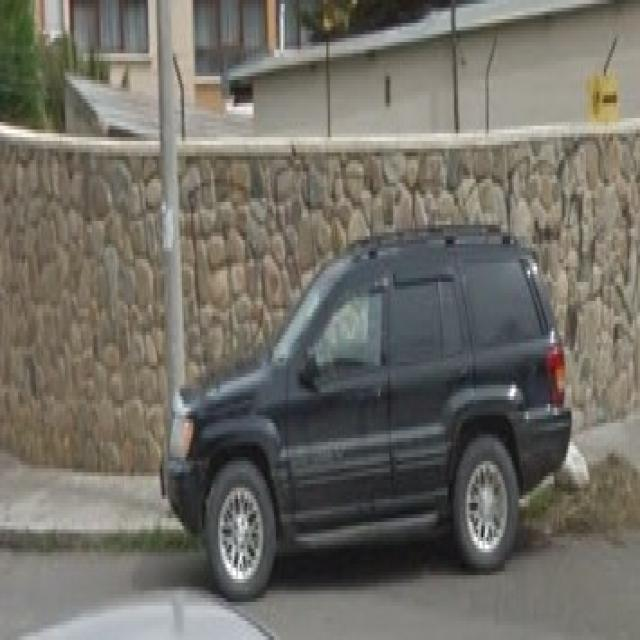car: (165, 212, 579, 600)
